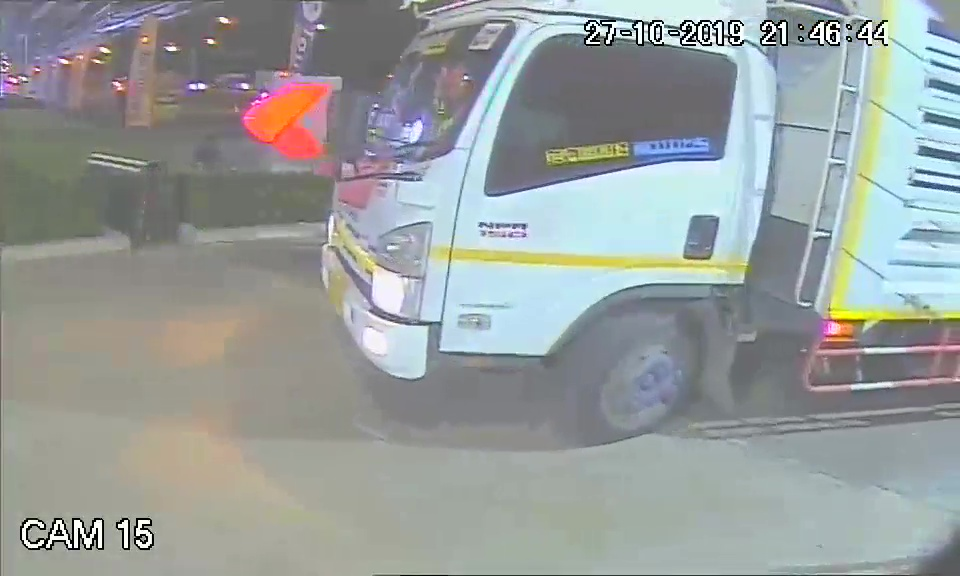truck: (321, 2, 778, 444)
